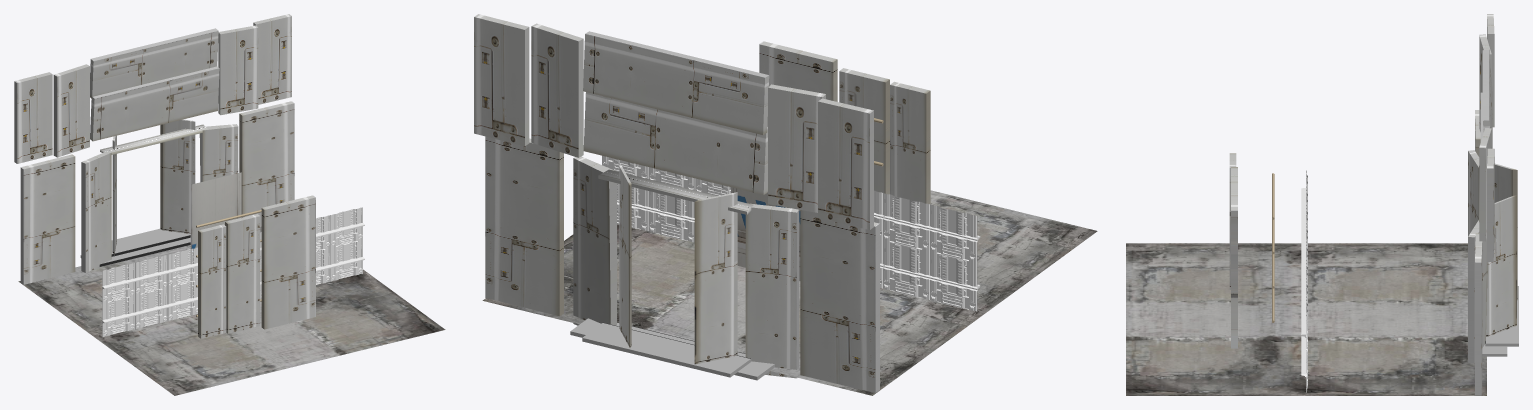
File: backrooms_threshold.glb
3 views of the same model, side by side, from view 1: azimuth 30°, elevation 25°; view 2: azimuth 150°, elevation 25°; view 3: azimuth 270°, elevation 25° (orthographic). The views are drawn at different scales.
Visible parts, largest first — view 1: Plane_3, Plane.009_5, Door2.006_2, Door2.026_12, Door2.030_16, Door2.018_7, Door2.029_15, Door2.024_10, Door2.005_1, Door2.025_11, Door2.023_9, Door2.027_13 (+7 smaller); view 2: Plane_3, Plane.009_5, Door2.026_12, Door2.018_7, Door2.029_15, Door2.030_16, Door2.024_10, Door2.025_11, Door2.017_6, Door2.027_13, Door2.022_8, Door2.023_9 (+7 smaller); view 3: Plane_3, Door2.024_10, Door2.017_6, Plane.009_5, Door2.018_7, Door2.006_2, Door2.023_9, Door2.022_8, Door2.025_11, Door2.029_15, Cube.002_18, Door2.027_13 (+3 smaller).
Boxes of the visible parts, x1,y1,x2,y2 form: Plane_3: [18, 226, 445, 395]; Plane.009_5: [102, 207, 364, 336]; Door2.006_2: [261, 195, 315, 329]; Door2.026_12: [20, 154, 75, 284]; Door2.030_16: [90, 66, 219, 141]; Door2.018_7: [239, 101, 294, 226]; Door2.029_15: [90, 28, 218, 98]; Door2.024_10: [112, 119, 195, 256]; Door2.005_1: [225, 214, 260, 333]; Door2.025_11: [81, 152, 111, 272]; Door2.023_9: [218, 25, 258, 115]; Door2.027_13: [14, 72, 52, 163]; Plane_3: [482, 183, 1097, 395]; Plane.009_5: [602, 155, 980, 311]; Door2.026_12: [800, 210, 879, 392]; Door2.018_7: [485, 136, 563, 316]; Door2.029_15: [583, 31, 769, 134]; Door2.030_16: [583, 92, 767, 194]; Door2.024_10: [619, 164, 737, 364]; Door2.025_11: [745, 203, 799, 378]; Door2.017_6: [573, 156, 753, 325]; Door2.027_13: [818, 98, 873, 229]; Door2.022_8: [474, 14, 529, 146]; Door2.023_9: [531, 23, 583, 157]; Plane_3: [1126, 243, 1486, 395]; Door2.024_10: [1486, 163, 1517, 336]; Door2.017_6: [1468, 166, 1487, 363]; Plane.009_5: [1301, 170, 1307, 392]; Door2.018_7: [1475, 233, 1482, 395]; Door2.006_2: [1231, 181, 1237, 348]; Door2.023_9: [1479, 128, 1491, 241]; Door2.022_8: [1487, 148, 1494, 261]; Door2.025_11: [1468, 150, 1479, 236]; Door2.029_15: [1482, 49, 1492, 148]; Cube.002_18: [1485, 286, 1518, 346]; Door2.027_13: [1487, 14, 1494, 127].
Size of the model in its own units: 21.88 by 15.95 by 23.47.
15 materials, 10 textured.
